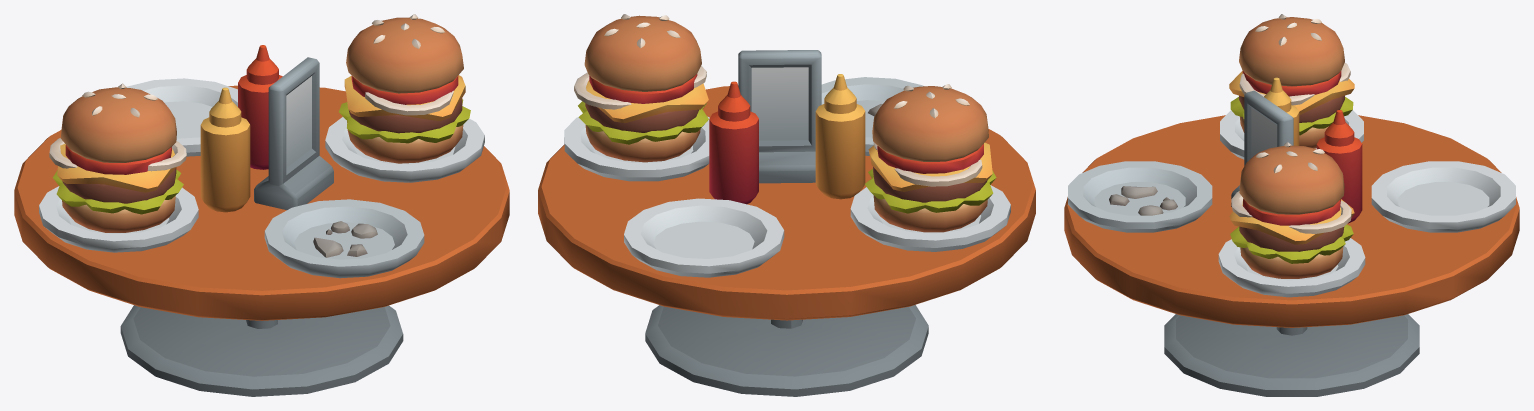
Rendered from kay-table_round_a_decorated.glb.
The picture shows the model from 3 angles, left to right: view 1: azimuth 30°, elevation 25°; view 2: azimuth 150°, elevation 25°; view 3: azimuth 270°, elevation 25°; orthographic projection. The views are drawn at different scales.
Visible parts, largest first — view 1: table_round_A_decorated; view 2: table_round_A_decorated; view 3: table_round_A_decorated.
Part boxes in pixels (box(x1,y1,x2,y2)): table_round_A_decorated: box(14, 14, 509, 396); table_round_A_decorated: box(538, 14, 1035, 396); table_round_A_decorated: box(1064, 14, 1519, 396).
Bounding box in the file's own units: 1.4 × 0.8667 × 1.4.
1 material, 1 textured.
